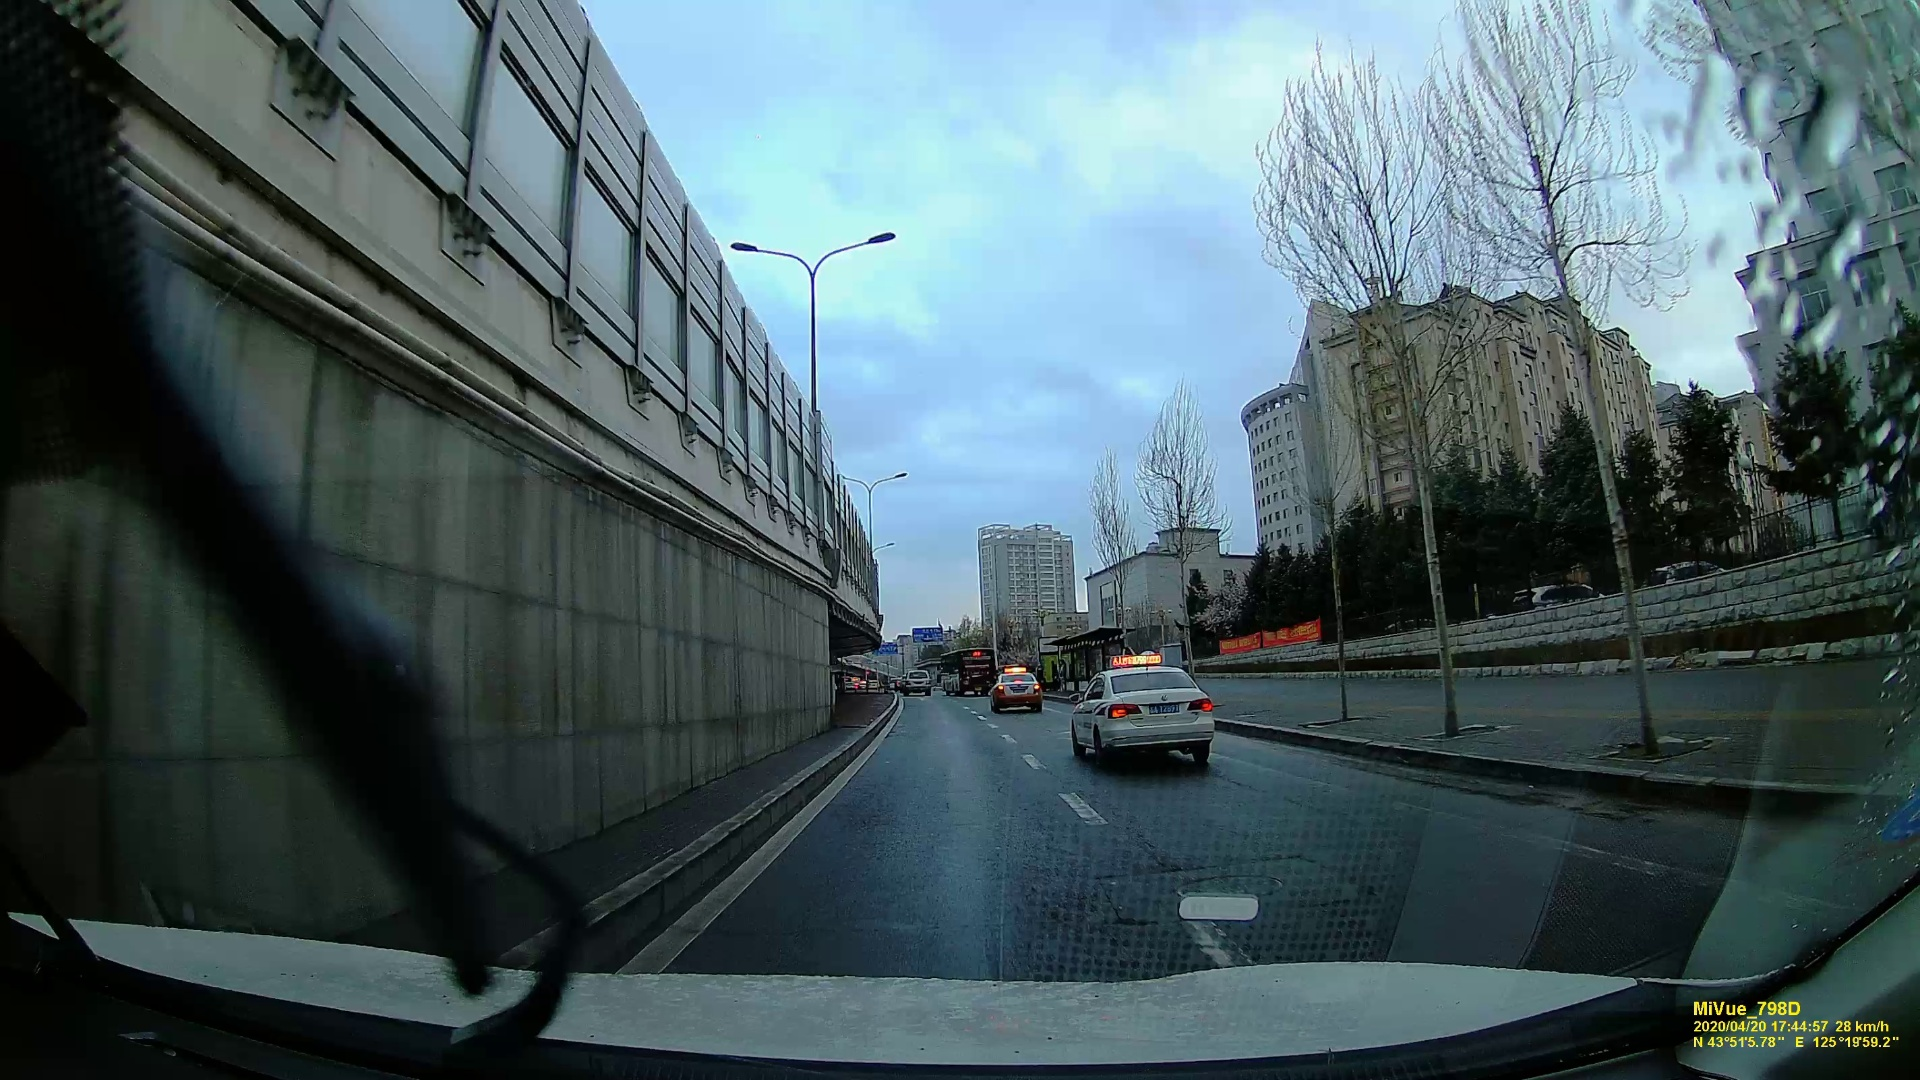traffic_sign: (911, 626, 942, 644), (880, 641, 897, 654)
vehicle: (1065, 663, 1217, 767), (989, 670, 1044, 712), (903, 673, 934, 694)
